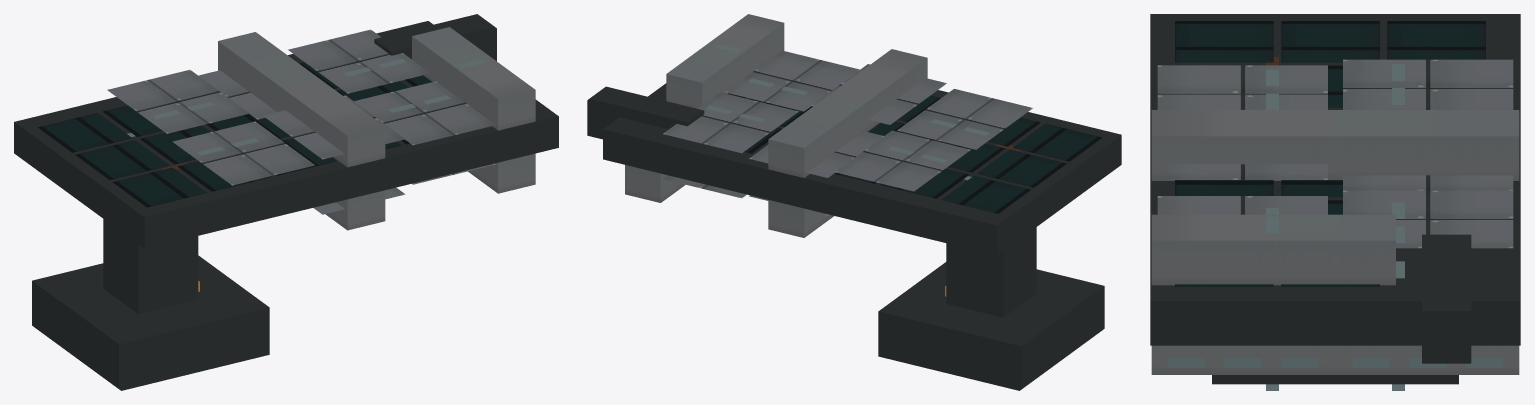
File: kit_dressing_solar_stub.glb
3 views of the same model, side by side, from view 1: azimuth 30°, elevation 25°; view 2: azimuth 150°, elevation 25°; view 3: azimuth 270°, elevation 25° (orthographic). The views are drawn at different scales.
Visible parts, largest first — view 1: lod0; view 2: lod0; view 3: lod0.
Boxes of the visible parts, x1,y1,x2,y2 form: lod0: (14,14,558,390); lod0: (587,14,1121,390); lod0: (1150,14,1520,390).
Size of what is drawn, in the model's own units: 60 by 28.07 by 30.
Materials: 1 (1 with a texture image).
